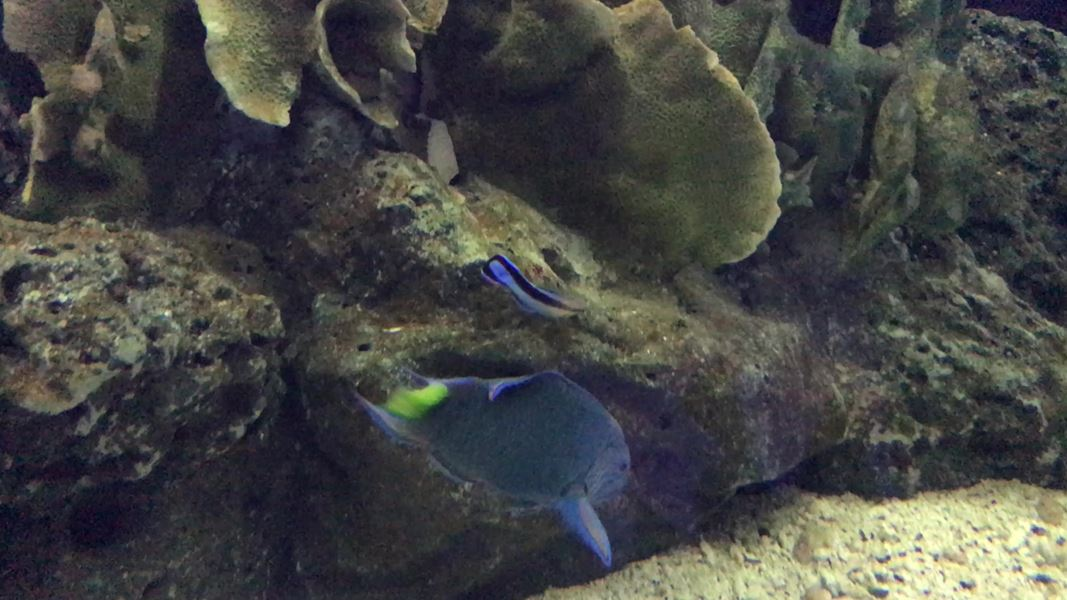Bluesteak cleaner wrasse: (466, 246, 593, 331)
